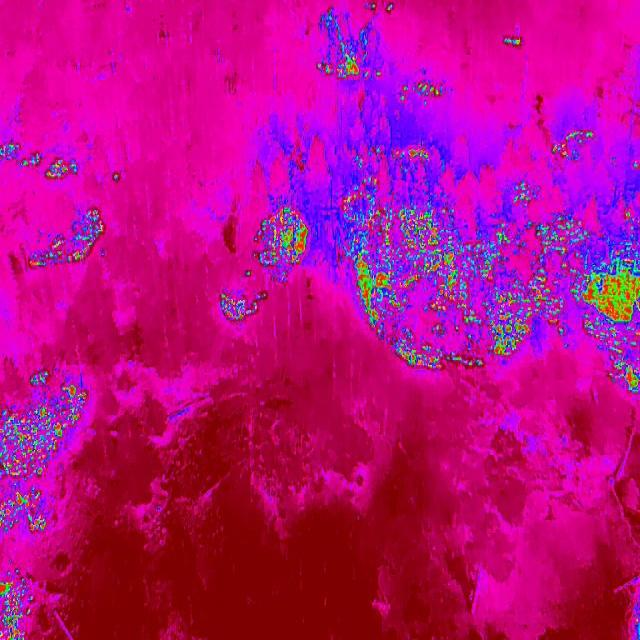fire: (332, 141, 571, 383), (0, 369, 90, 540), (571, 244, 640, 398), (22, 200, 108, 274), (255, 200, 313, 274), (0, 138, 80, 184), (0, 567, 38, 640), (318, 50, 382, 88), (394, 72, 450, 108), (547, 125, 598, 164), (218, 288, 268, 324), (501, 31, 527, 50), (369, 2, 397, 16), (108, 168, 125, 184), (242, 266, 254, 282), (623, 208, 633, 223)
